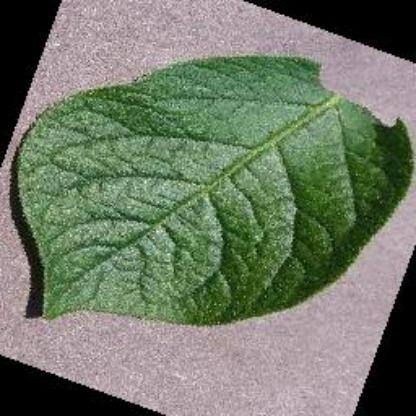Healthy-plant: (0, 5, 413, 369)
